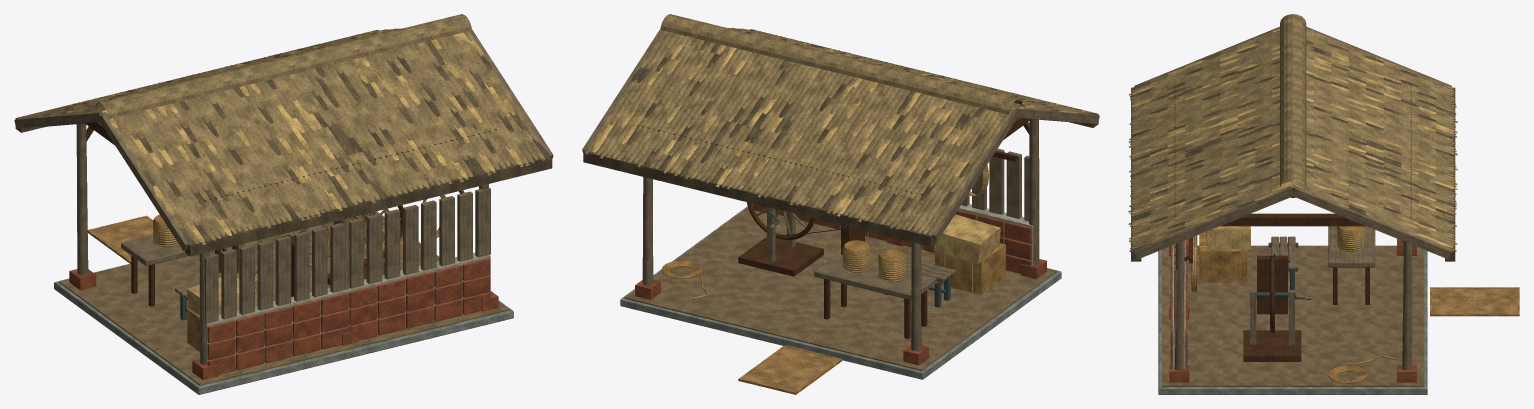
Rendered from BLD_CoirYard_Shed_01.gltf.
The picture shows the model from 3 angles, left to right: view 1: azimuth 30°, elevation 25°; view 2: azimuth 150°, elevation 25°; view 3: azimuth 270°, elevation 25°; orthographic projection. The views are drawn at different scales.
Parts seen in each view (by area): view 1: TF3_BLD_CoirYard_Shed_01; view 2: TF3_BLD_CoirYard_Shed_01; view 3: TF3_BLD_CoirYard_Shed_01.
Boxes of the visible parts, box(x1,y1,x2,y2) form: TF3_BLD_CoirYard_Shed_01: box(14, 14, 553, 394); TF3_BLD_CoirYard_Shed_01: box(582, 14, 1099, 394); TF3_BLD_CoirYard_Shed_01: box(1128, 14, 1519, 394).
Bounding box in the file's own units: 5.72 × 3.63 × 5.67.
13 materials, 11 textured.
